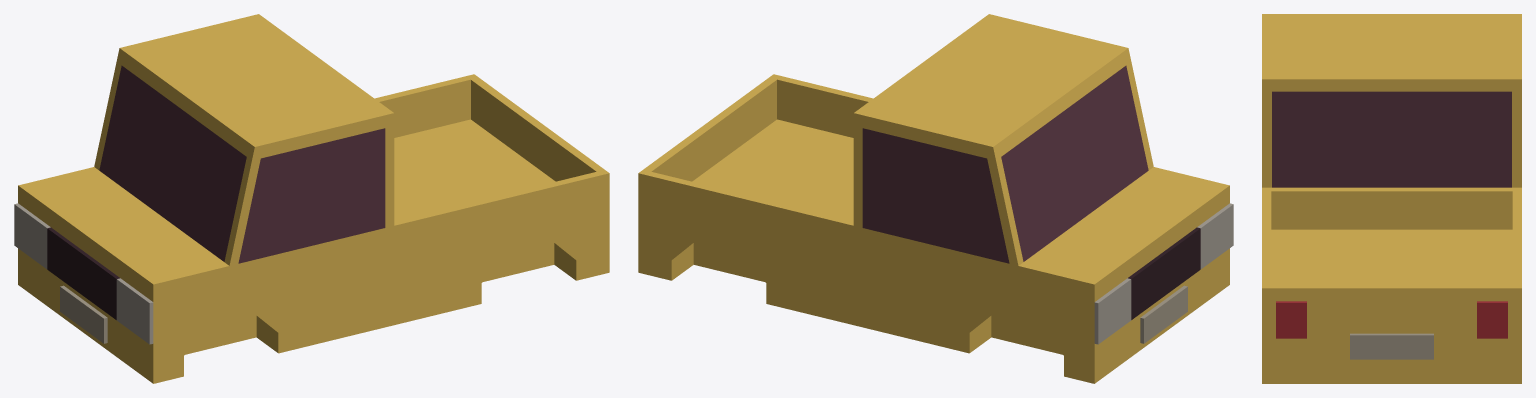
The model's file is Pickup_Yellow.fbx.
3 views of the same model, side by side, from view 1: azimuth 30°, elevation 25°; view 2: azimuth 150°, elevation 25°; view 3: azimuth 270°, elevation 25° (orthographic). The views are drawn at different scales.
Visible parts, largest first — view 1: Pickup_Yellow, Pickup_Lights; view 2: Pickup_Yellow, Pickup_Lights; view 3: Pickup_Yellow, Pickup_Lights.
Part boxes in pixels (x1,y1,x2,y2): Pickup_Yellow: (18, 14, 609, 383); Pickup_Lights: (14, 203, 153, 344); Pickup_Yellow: (638, 14, 1229, 383); Pickup_Lights: (1094, 203, 1233, 344); Pickup_Yellow: (1262, 14, 1521, 383); Pickup_Lights: (1276, 301, 1507, 338).
Bounding box in the file's own units: 3.66 × 1.6 × 1.85.
